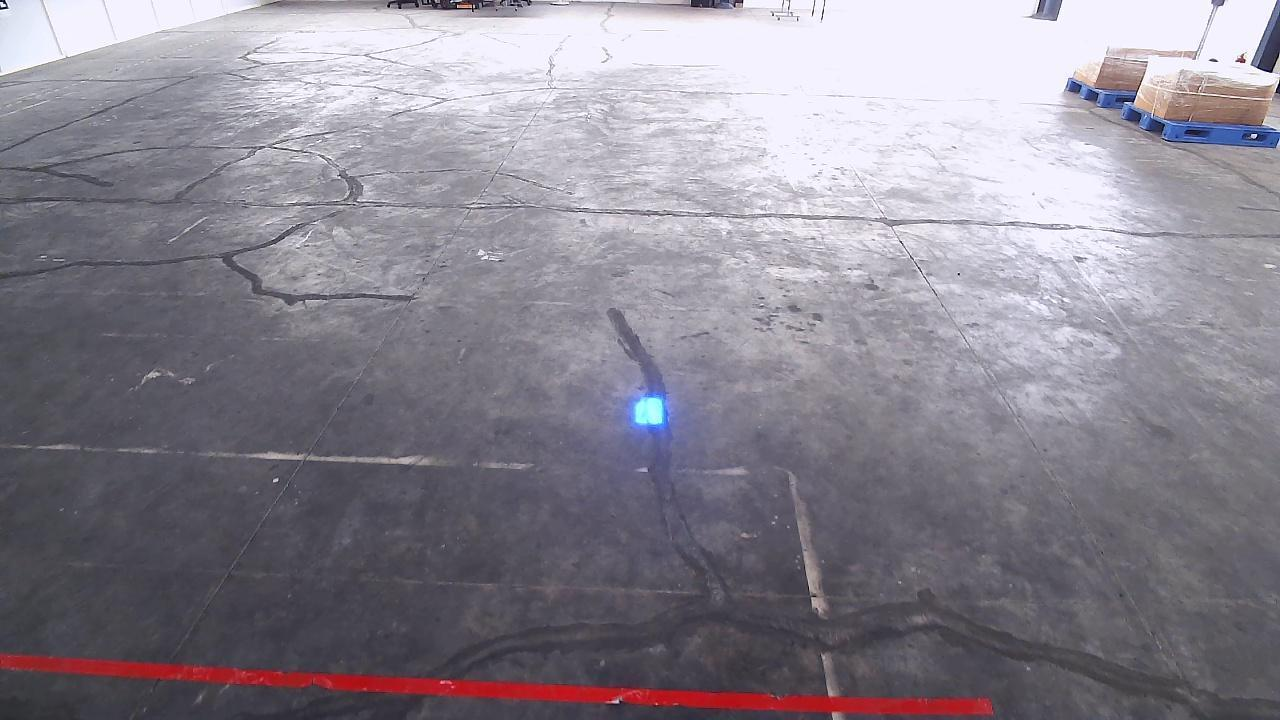red_line: (0, 655, 996, 715)
